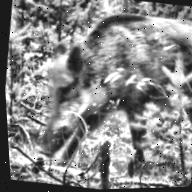boar: (27, 2, 192, 182)
